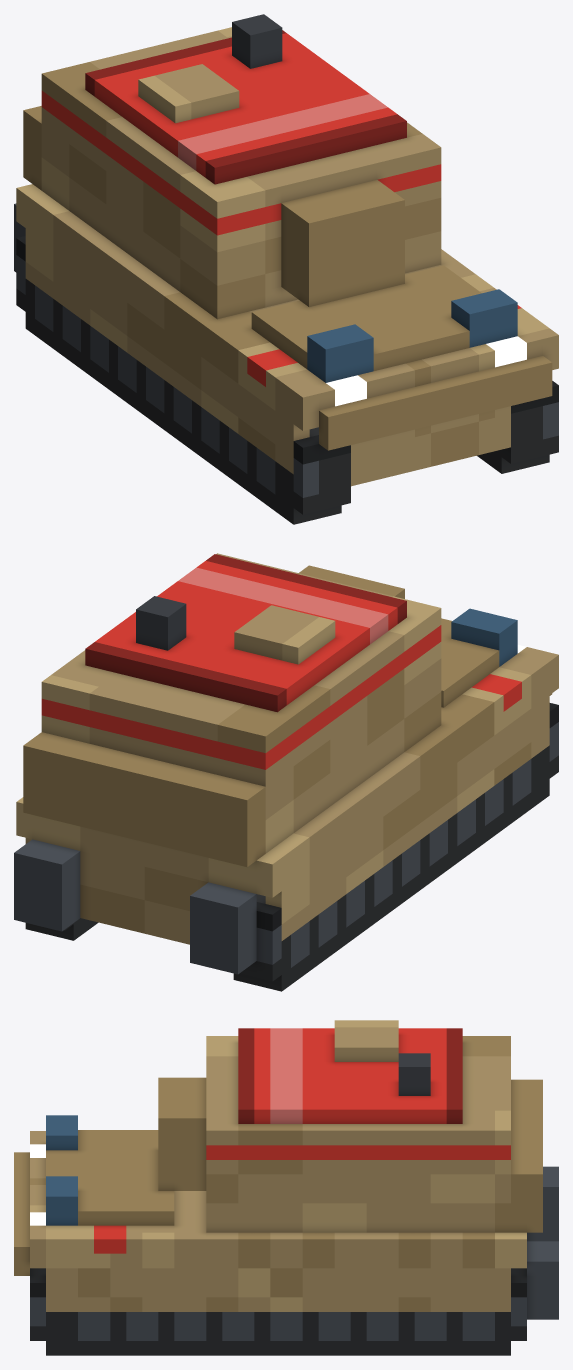
File: cm_artillery_h_0.glb
The picture shows the model from 3 angles, top to bottom: view 1: azimuth 30°, elevation 25°; view 2: azimuth 150°, elevation 25°; view 3: azimuth 270°, elevation 25°; orthographic projection. The views are drawn at different scales.
Visible parts, largest first — view 1: cm_artillery_h_0_body; view 2: cm_artillery_h_0_body; view 3: cm_artillery_h_0_body.
Boxes of the visible parts, x1=… form: cm_artillery_h_0_body: x1=14, y1=14, x2=558, y2=524; cm_artillery_h_0_body: x1=14, y1=553, x2=558, y2=991; cm_artillery_h_0_body: x1=14, y1=1020, x2=558, y2=1355.
Bounding box in the file's own units: 1 × 1.12 × 2.12.
1 material, 1 textured.
